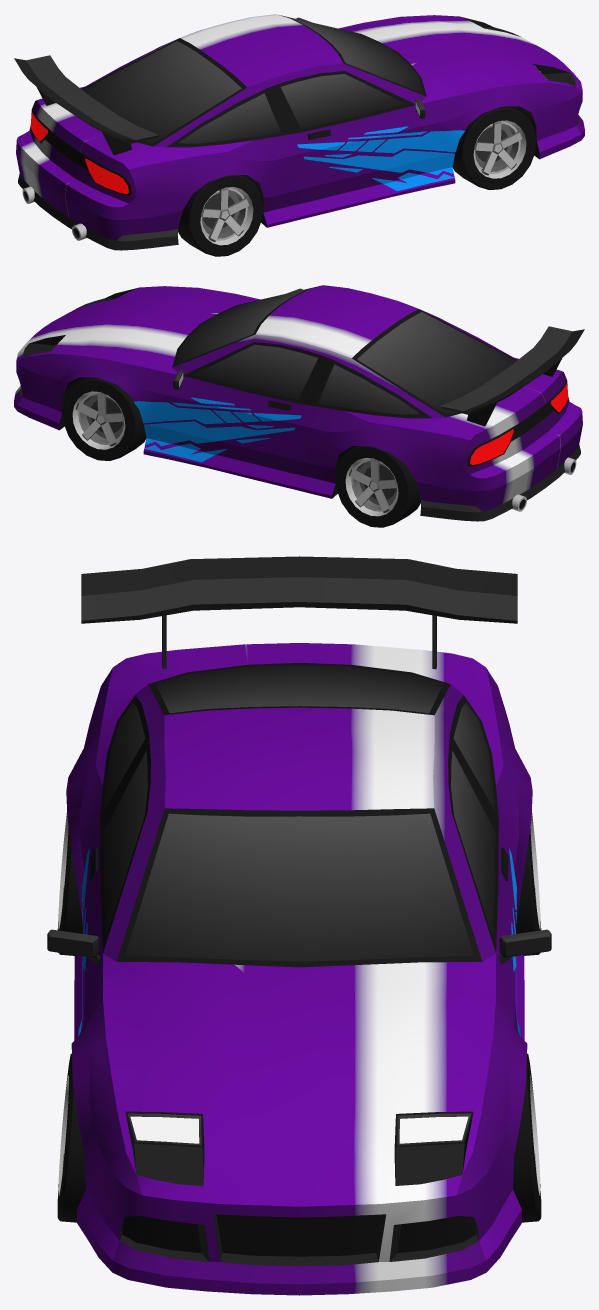
File: Car_227.glb
The picture shows the model from 3 angles, top to bottom: view 1: azimuth 30°, elevation 25°; view 2: azimuth 150°, elevation 25°; view 3: azimuth 270°, elevation 25°; orthographic projection. The views are drawn at different scales.
Visible parts, largest first — view 1: Car_227, wheel_3_Car_227_Wheel_2R, wheel_1_Car_227_Wheel_1R; view 2: Car_227, wheel_2_Car_227_Wheel_2L, wheel_0_Car_227_Wheel_1L; view 3: Car_227, wheel_0_Car_227_Wheel_1L, wheel_1_Car_227_Wheel_1R, wheel_3_Car_227_Wheel_2R, wheel_2_Car_227_Wheel_2L.
Part boxes in pixels (left/top/right/bottom): Car_227: left=14, top=14, right=584, bottom=250; wheel_3_Car_227_Wheel_2R: left=178, top=175, right=263, bottom=256; wheel_1_Car_227_Wheel_1R: left=452, top=106, right=536, bottom=189; Car_227: left=14, top=285, right=584, bottom=521; wheel_2_Car_227_Wheel_2L: left=335, top=446, right=420, bottom=527; wheel_0_Car_227_Wheel_1L: left=62, top=377, right=146, bottom=460; Car_227: left=47, top=556, right=551, bottom=1295; wheel_0_Car_227_Wheel_1L: left=513, top=1053, right=541, bottom=1222; wheel_1_Car_227_Wheel_1R: left=57, top=1053, right=85, bottom=1222; wheel_3_Car_227_Wheel_2R: left=57, top=811, right=82, bottom=955; wheel_2_Car_227_Wheel_2L: left=516, top=811, right=541, bottom=955.
Bounding box in the file's own units: 4.38 × 1.23 × 1.89.
3 materials, 3 textured.
